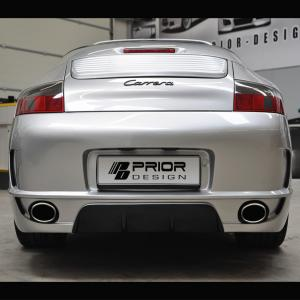Vehicle-registration-plate: (101, 157, 199, 195)
